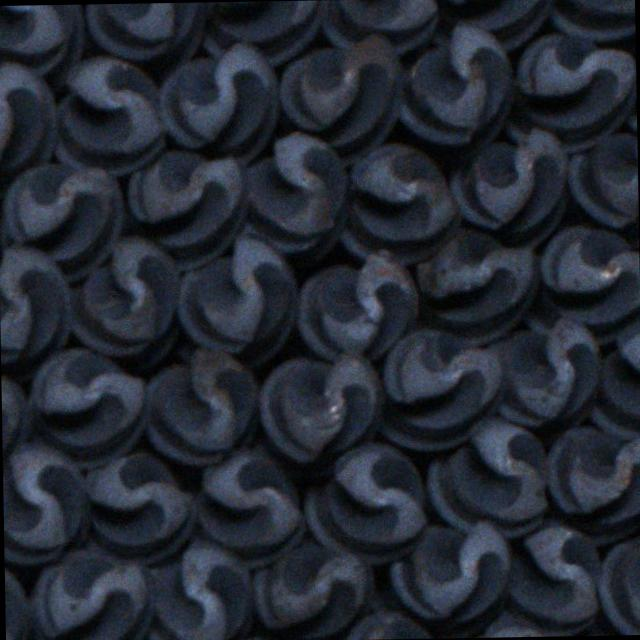tool_b: (175, 234, 298, 370), (502, 30, 637, 152), (280, 32, 402, 166), (377, 325, 506, 450), (393, 20, 512, 154), (259, 350, 380, 481), (303, 441, 430, 565), (425, 418, 552, 540), (448, 124, 572, 248), (0, 159, 124, 283), (23, 346, 148, 468), (156, 40, 278, 164), (67, 235, 176, 372), (388, 518, 509, 639), (338, 144, 458, 266), (242, 130, 348, 267), (126, 150, 244, 273), (294, 247, 418, 364), (416, 228, 540, 344), (143, 347, 260, 468), (50, 56, 164, 177), (86, 452, 200, 568), (523, 226, 640, 334), (197, 451, 304, 568), (492, 311, 598, 426), (253, 540, 373, 640), (502, 522, 606, 636), (30, 544, 152, 640), (546, 423, 640, 543), (2, 438, 91, 564), (146, 538, 254, 640), (0, 244, 75, 380), (566, 113, 638, 250), (86, 2, 202, 78), (200, 0, 324, 65), (0, 4, 86, 97), (0, 61, 56, 191), (316, 0, 438, 54), (586, 321, 640, 441), (430, 0, 556, 50)
